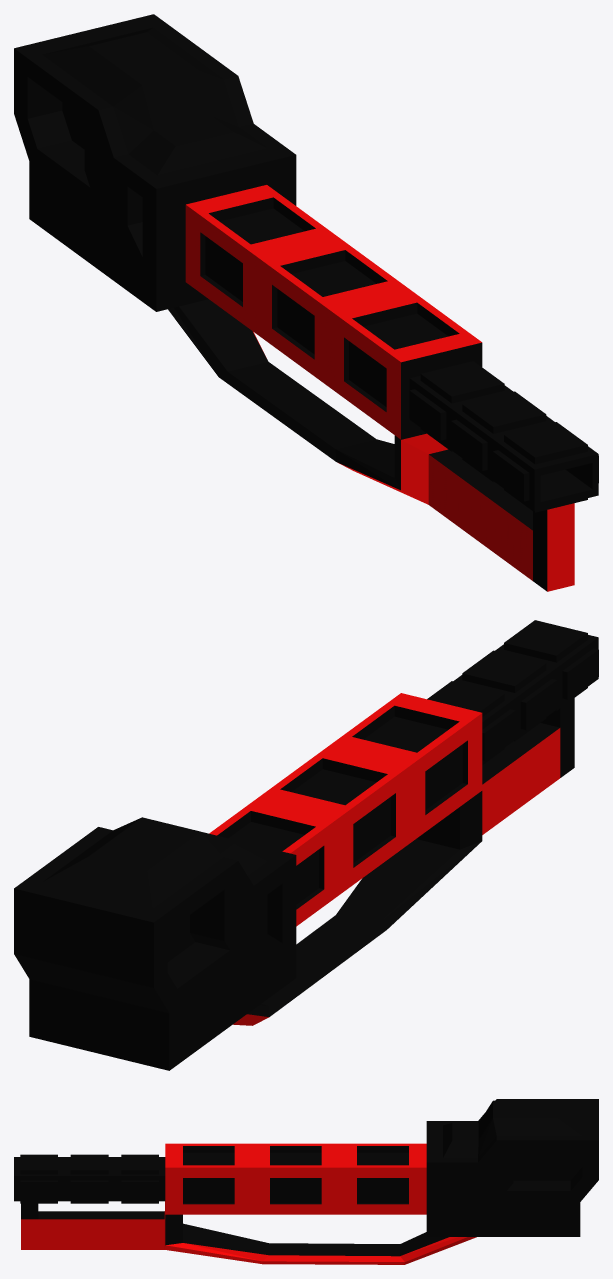
File: Gun2.FBX
3 views of the same model, one above another, from view 1: azimuth 30°, elevation 25°; view 2: azimuth 150°, elevation 25°; view 3: azimuth 270°, elevation 25° (orthographic). The views are drawn at different scales.
Visible parts, largest first — view 1: Box001; view 2: Box001; view 3: Box001.
Part boxes in pixels (left/top/right/bottom): Box001: left=14, top=14, right=598, bottom=591; Box001: left=14, top=620, right=598, bottom=1070; Box001: left=14, top=1099, right=598, bottom=1264.
Bounding box in the file's own units: 44.78 × 77.24 × 268.
